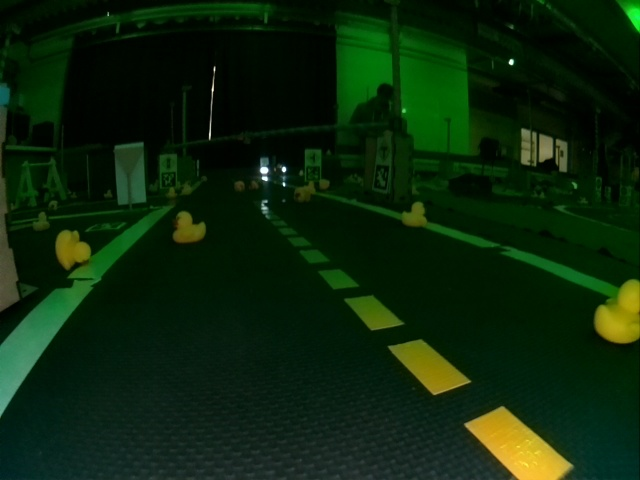Duckie: (594, 280, 639, 343), (56, 229, 90, 270), (172, 211, 206, 243), (401, 202, 427, 226), (34, 212, 47, 231), (296, 186, 311, 201), (248, 180, 258, 190), (234, 182, 244, 191)
Intersection sign: (377, 140, 391, 160), (307, 150, 320, 164)
QR code: (373, 164, 391, 190), (89, 222, 124, 231), (305, 166, 322, 181), (162, 172, 177, 186)
Signal sign: (161, 156, 177, 171)
